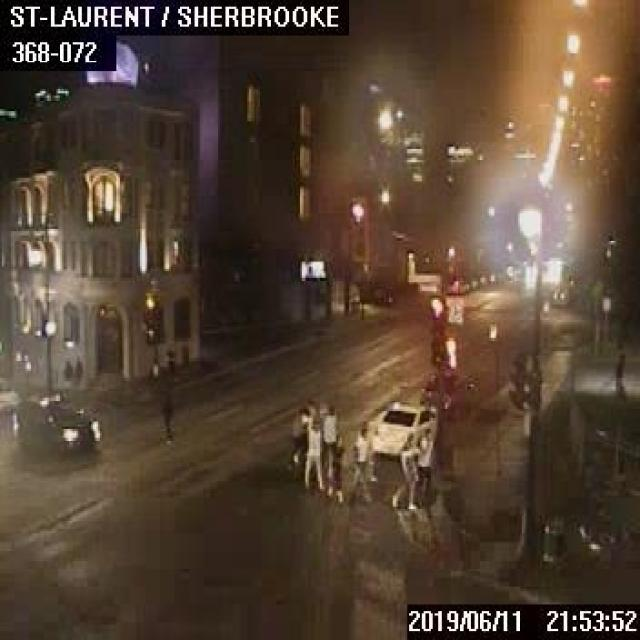pedestrian: (389, 433, 415, 508), (348, 426, 370, 501), (290, 397, 314, 460), (300, 416, 320, 491), (324, 434, 342, 503), (416, 436, 434, 504), (322, 404, 335, 466), (160, 387, 175, 440), (164, 346, 176, 377), (70, 353, 81, 386), (61, 357, 72, 388)
vehicle: (14, 392, 100, 449), (367, 398, 436, 456), (420, 368, 477, 417), (443, 276, 467, 293)
